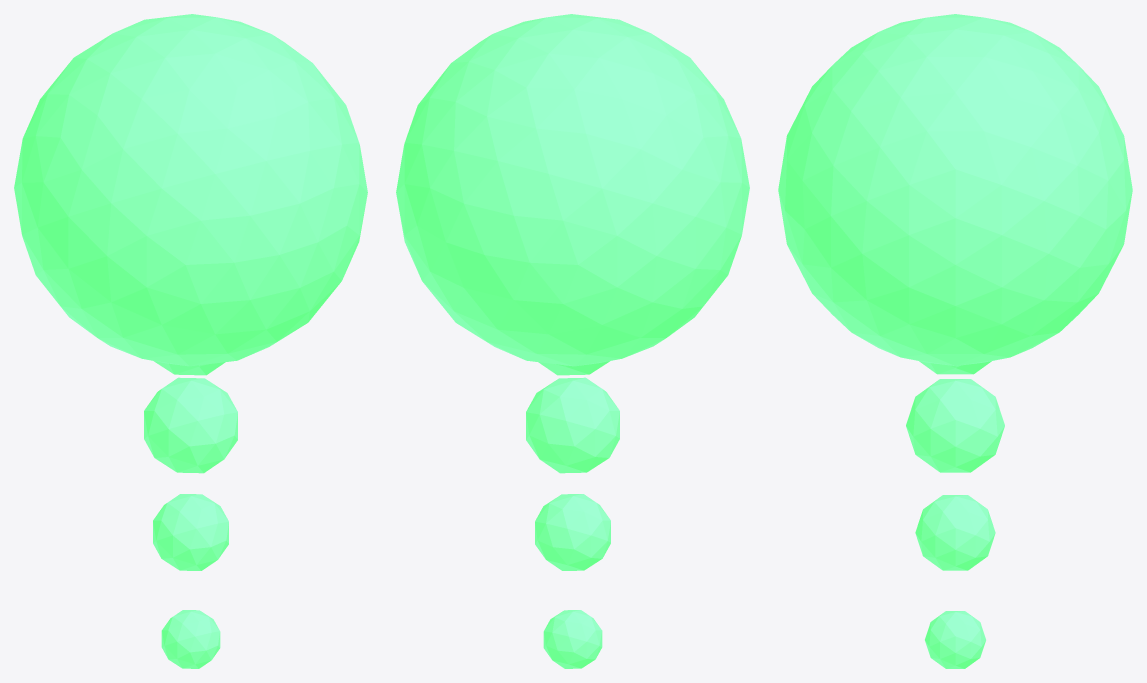
Rendered from sinal_luz_verde.glb.
The picture shows the model from 3 angles, left to right: view 1: azimuth 30°, elevation 25°; view 2: azimuth 150°, elevation 25°; view 3: azimuth 270°, elevation 25°; orthographic projection.
Visible parts, largest first — view 1: sinal_luz_verde_clarao_sinal_verde; view 2: sinal_luz_verde_clarao_sinal_verde; view 3: sinal_luz_verde_clarao_sinal_verde.
Part boxes in pixels (bbox=[...]): sinal_luz_verde_clarao_sinal_verde: bbox=[14, 14, 367, 668]; sinal_luz_verde_clarao_sinal_verde: bbox=[396, 14, 749, 668]; sinal_luz_verde_clarao_sinal_verde: bbox=[778, 14, 1132, 668].
Size of the model in its own units: 0.15 by 0.298 by 0.15.
